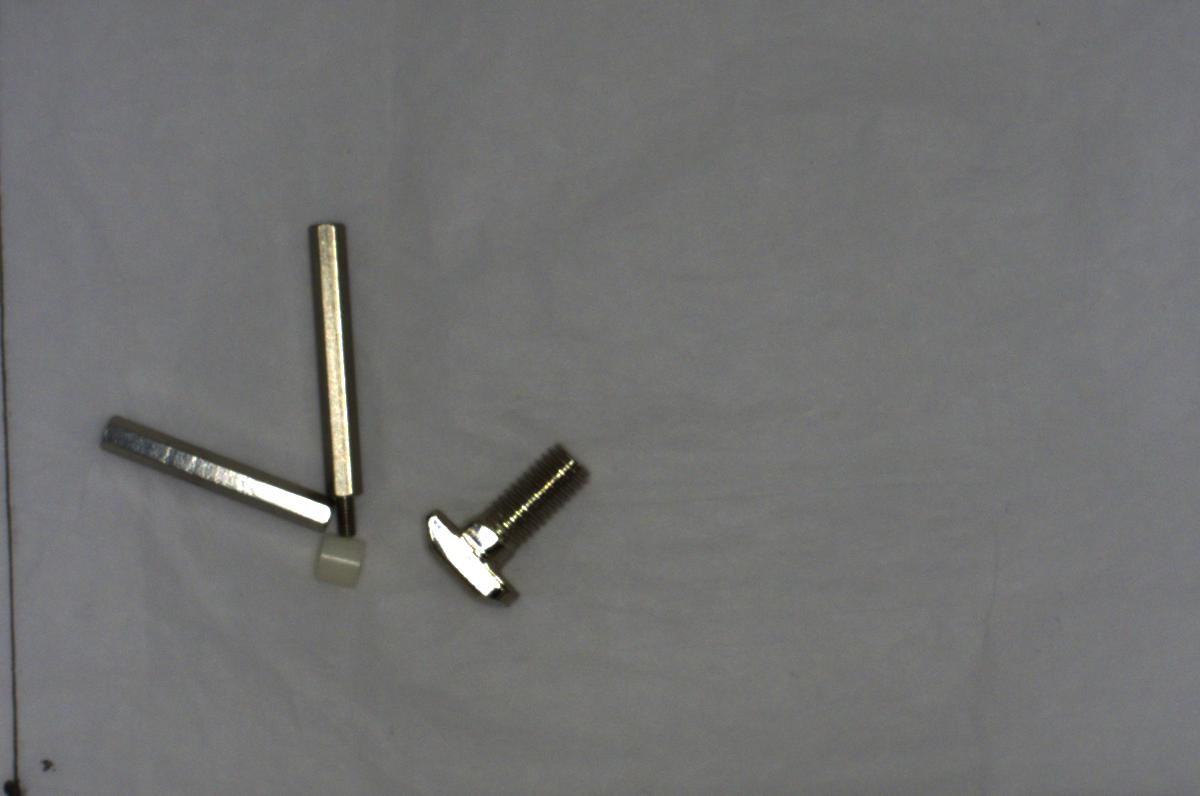Double hexagonal column: (88, 415, 345, 536)
Hexagonal steel column: (299, 215, 366, 538)
Plastic cushion pillar: (305, 529, 370, 587)
T-shaped screw: (415, 432, 595, 608)
